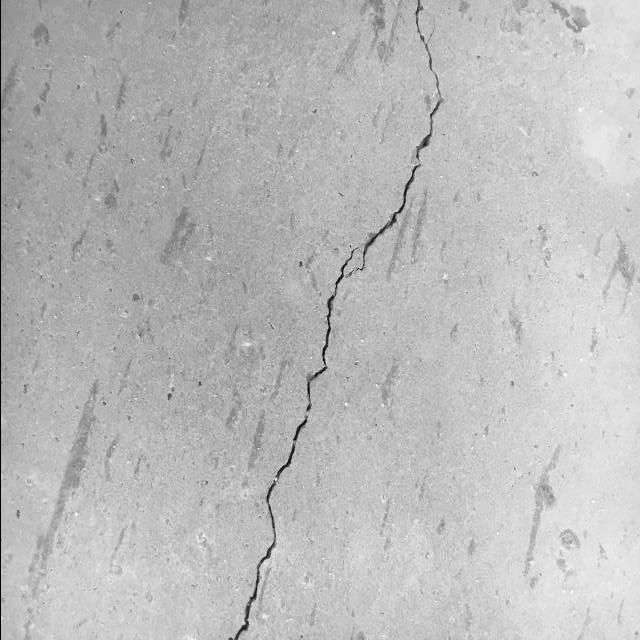SurfaceCrack: (213, 0, 471, 639)
